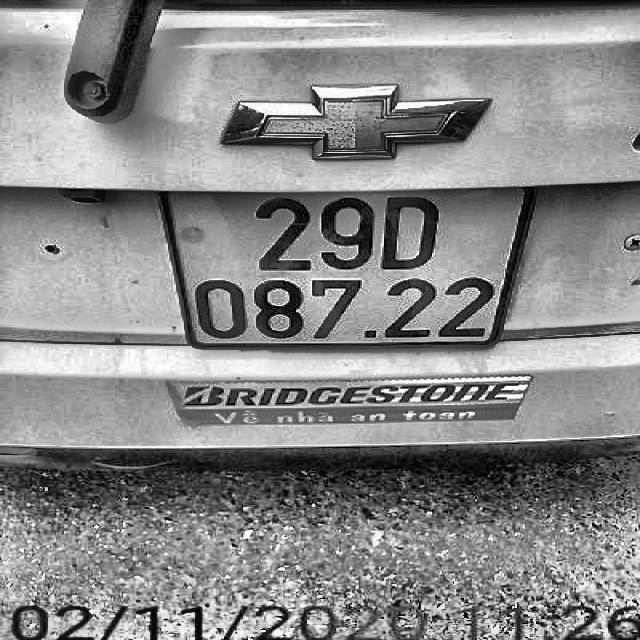plate: (140, 184, 546, 354)
